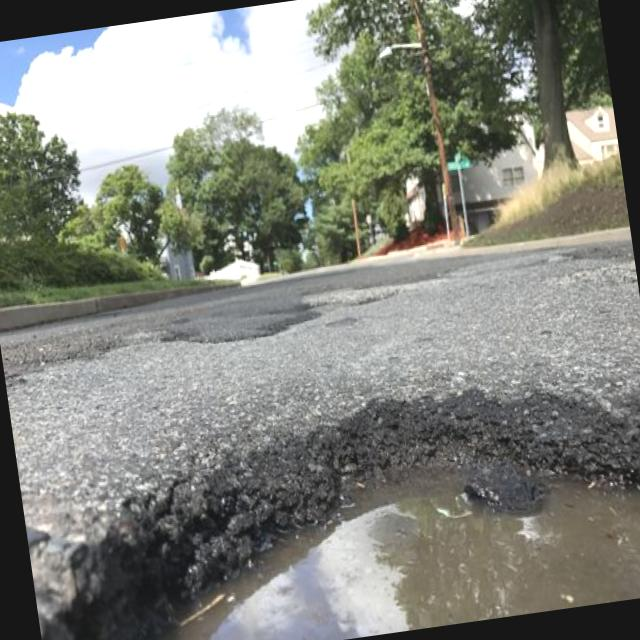bad-road: (14, 354, 640, 640)
